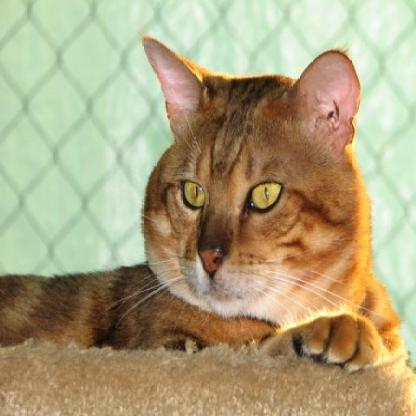cat: (0, 32, 405, 372)
